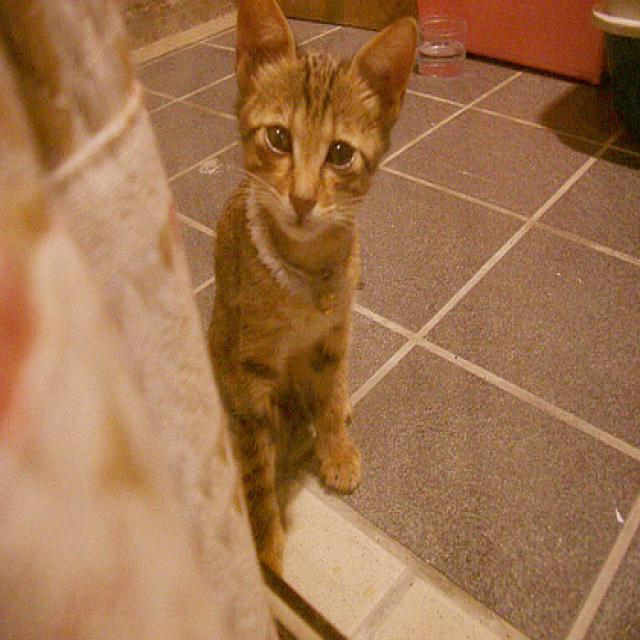cat: (206, 1, 420, 580)
